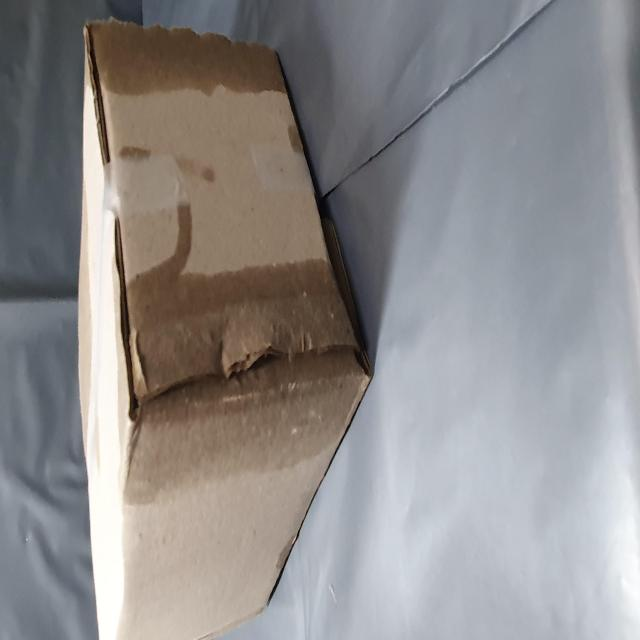wet: (74, 210, 242, 640), (266, 151, 342, 519)
